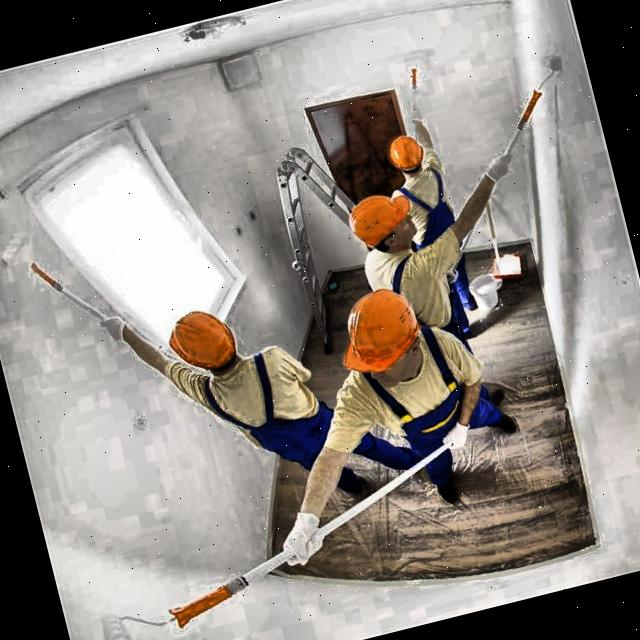helmet: (326, 270, 441, 412), (151, 290, 260, 406), (340, 180, 432, 274), (374, 121, 438, 192)
